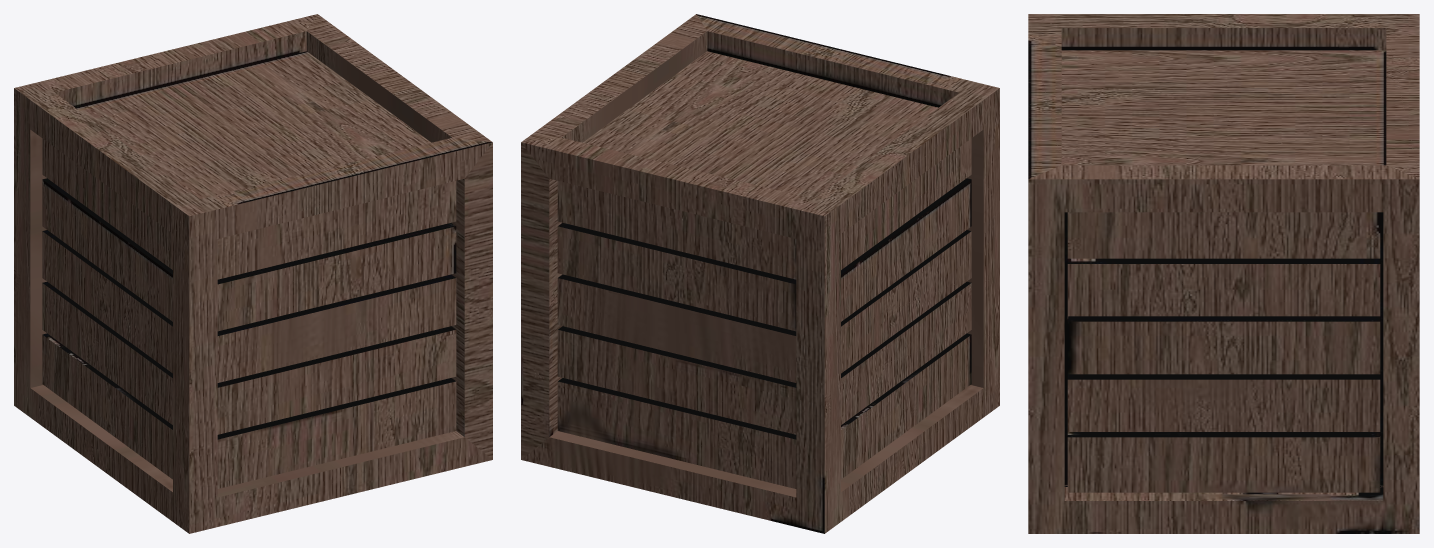
File: box_wood.fbx
3 views of the same model, side by side, from view 1: azimuth 30°, elevation 25°; view 2: azimuth 150°, elevation 25°; view 3: azimuth 270°, elevation 25° (orthographic). The views are drawn at different scales.
Visible parts, largest first — view 1: Cube; view 2: Cube; view 3: Cube.
Boxes of the visible parts, x1=… form: Cube: x1=14, y1=14, x2=492, y2=533; Cube: x1=521, y1=14, x2=999, y2=533; Cube: x1=1028, y1=14, x2=1419, y2=533.
Bounding box in the file's own units: 200 × 200 × 200.
1 material, 1 textured.
